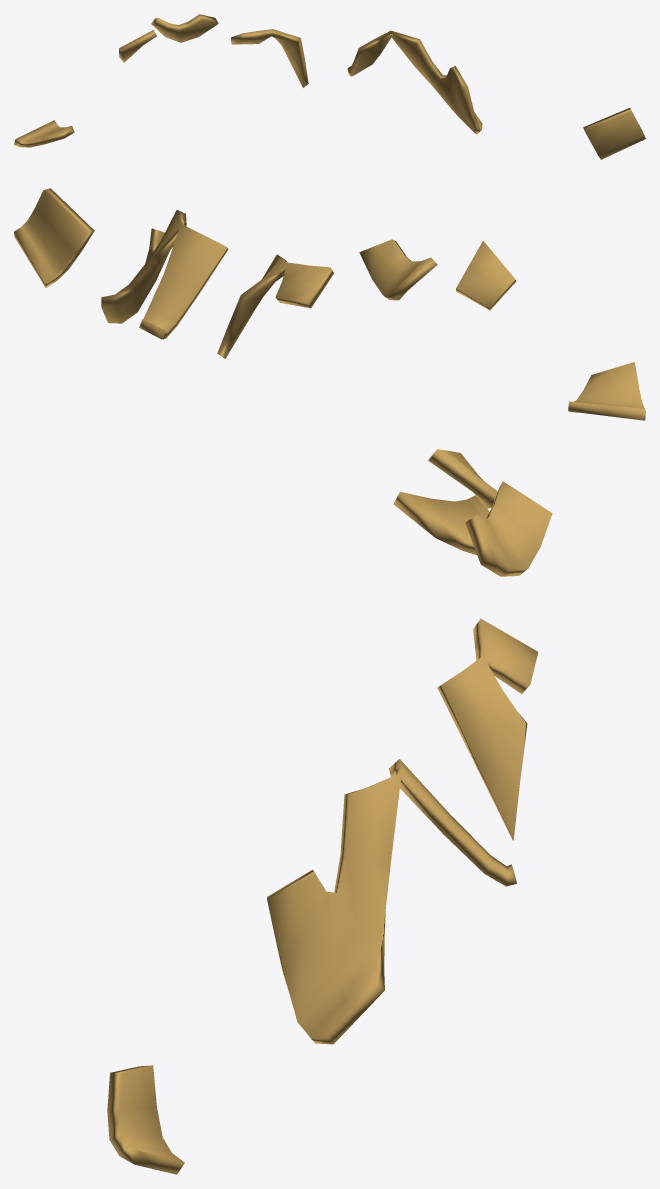
3 views of the same model, one above another, from view 1: azimuth 30°, elevation 25°; view 2: azimuth 150°, elevation 25°; view 3: azimuth 270°, elevation 25° (orthographic). The views are drawn at different scales.
Parts seen in each view (by area): view 1: 左侧腕掌掌侧韧带; view 2: 左侧腕掌掌侧韧带; view 3: 左侧腕掌掌侧韧带.
Boxes of the visible parts, left/top/right/bottom form: 左侧腕掌掌侧韧带: left=14, top=14, right=645, bottom=159; 左侧腕掌掌侧韧带: left=14, top=188, right=645, bottom=420; 左侧腕掌掌侧韧带: left=107, top=449, right=552, bottom=1174.
Size of the model in its own units: 0.0632 by 0.0195 by 0.0224.
